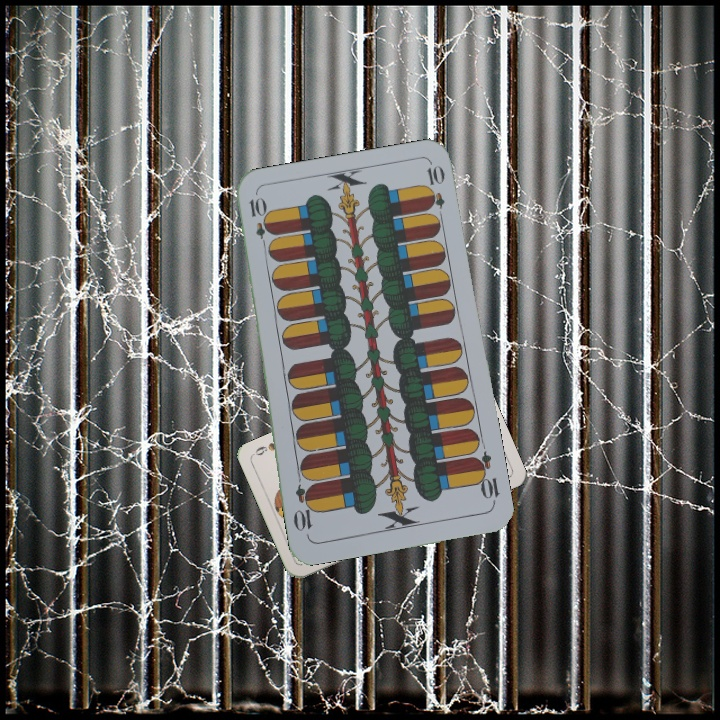E10: (469, 448, 502, 507), (245, 193, 271, 252)
